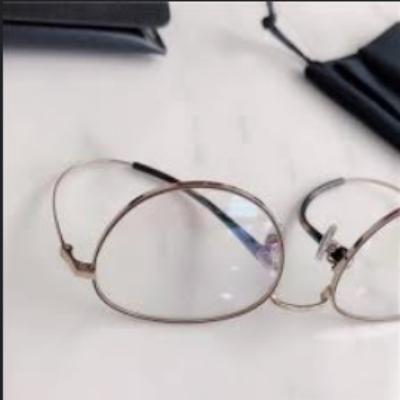glasses: (56, 148, 400, 339)
